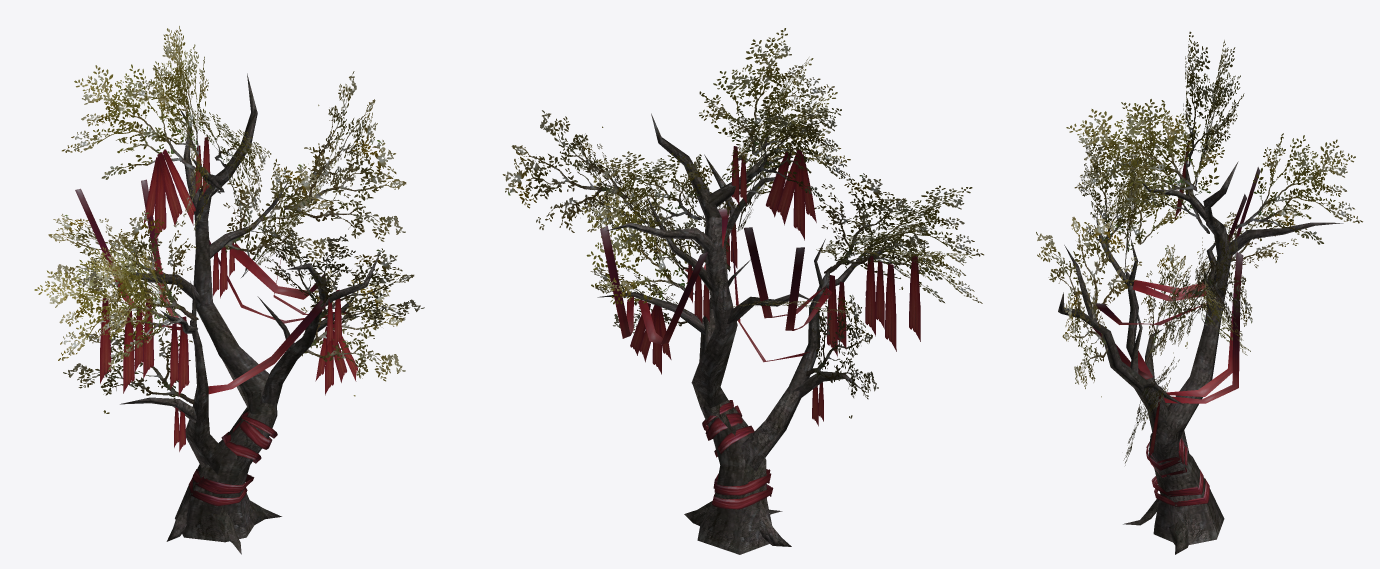
Rendered from zc_suzhou_dashu02.FBX.
The picture shows the model from 3 angles, left to right: view 1: azimuth 30°, elevation 25°; view 2: azimuth 150°, elevation 25°; view 3: azimuth 270°, elevation 25°; orthographic projection. The views are drawn at different scales.
Visible parts, largest first — view 1: zc_suzhou_dashu02; view 2: zc_suzhou_dashu02; view 3: zc_suzhou_dashu02.
Boxes of the visible parts, <box> form: zc_suzhou_dashu02: <box>34,26,424,554</box>; zc_suzhou_dashu02: <box>502,28,983,554</box>; zc_suzhou_dashu02: <box>1036,31,1362,554</box>.
Size of the model in its own units: 927 by 1066 by 684.
